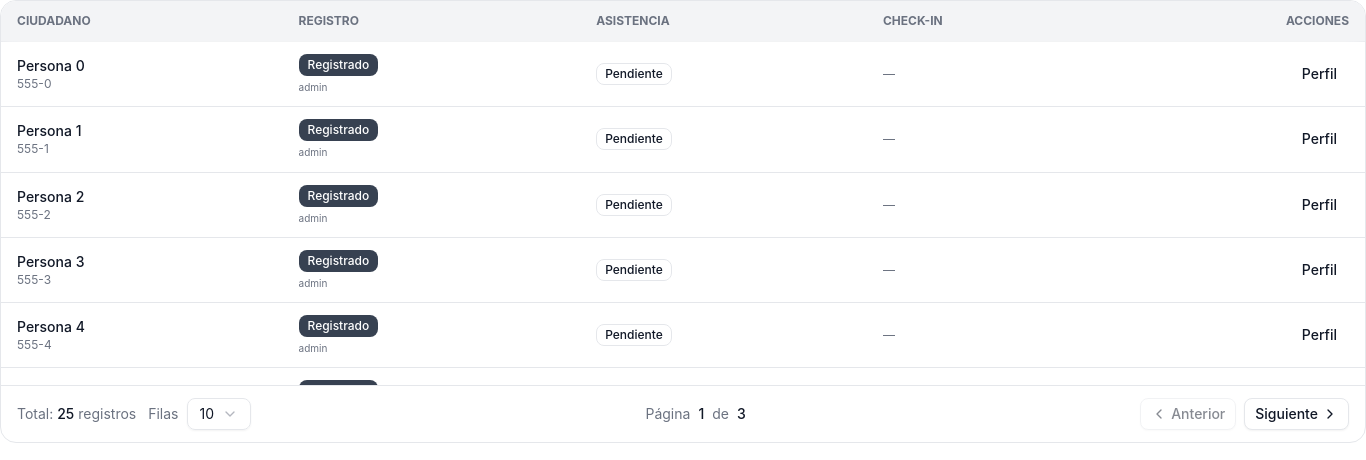
Test case: EventRegistrationsTable › navigates with next, previous and first
Click the button "Siguiente": (1297, 414) [1244,398,1349,430]
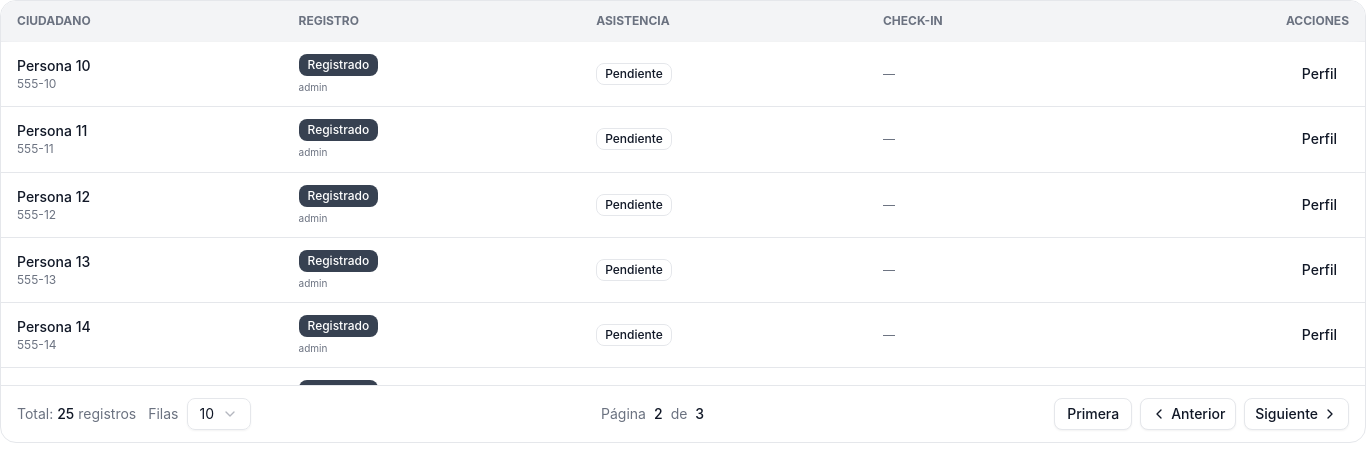
Check: the text "Persona 20" is not shown
Check: the text "Persona 10" is shown, box [17,57,90,74]
Check: the text "Persona 0" is gone
Click the button "Siguiente": (1297, 414) [1244,398,1349,430]
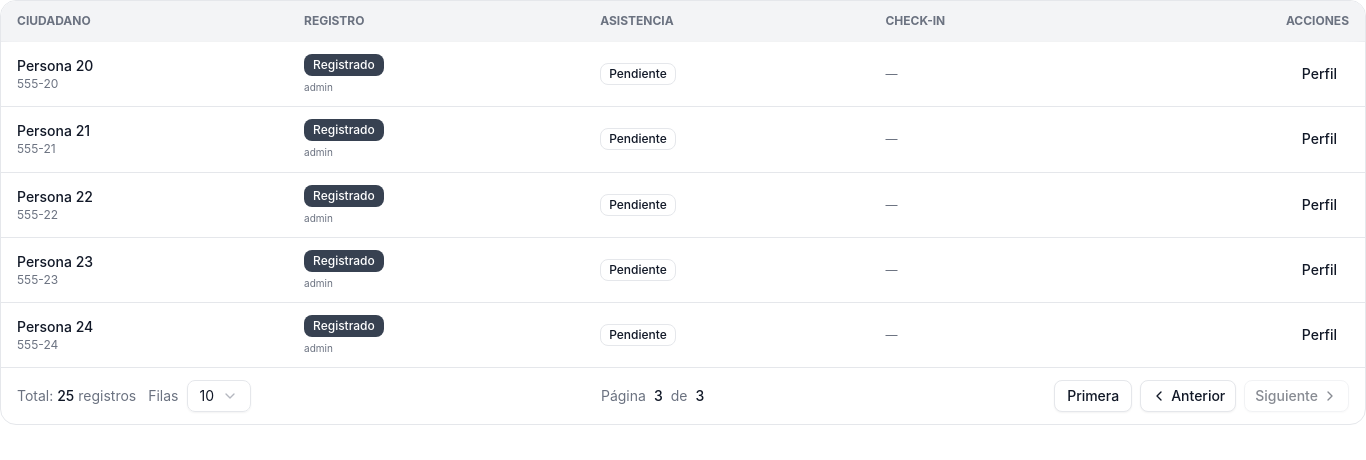
Check: the button "Primera" is shown, box [1054,380,1132,412]
Check: the text "Persona 20" is shown, box [17,57,93,74]
Click the button "Anterior": (1188, 396) [1140,380,1236,412]
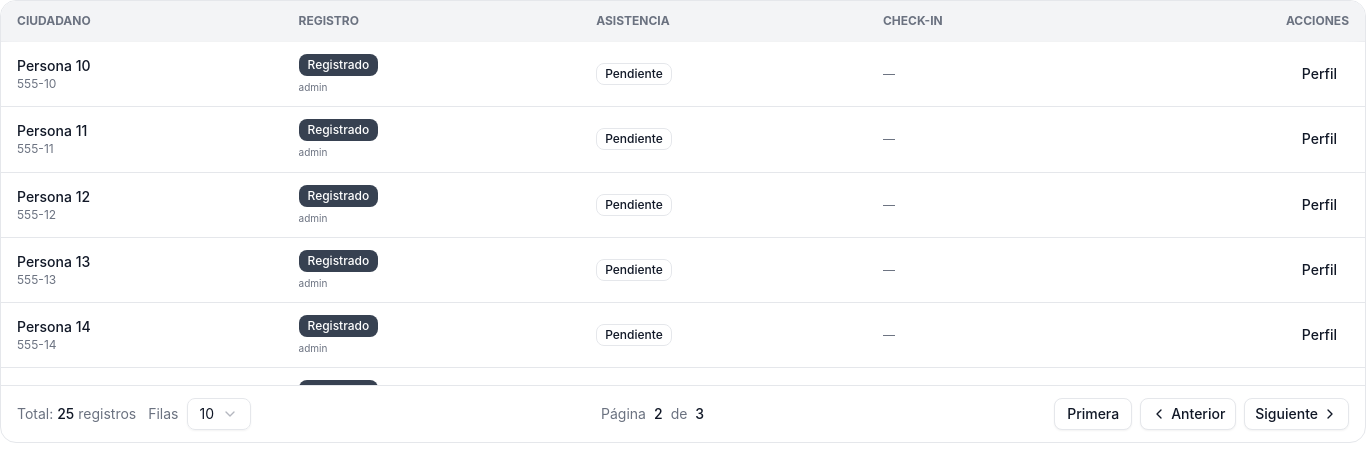
Check: the text "Persona 10" is shown, box [17,57,90,74]
Click the button "Primera": (1093, 414) [1054,398,1132,430]
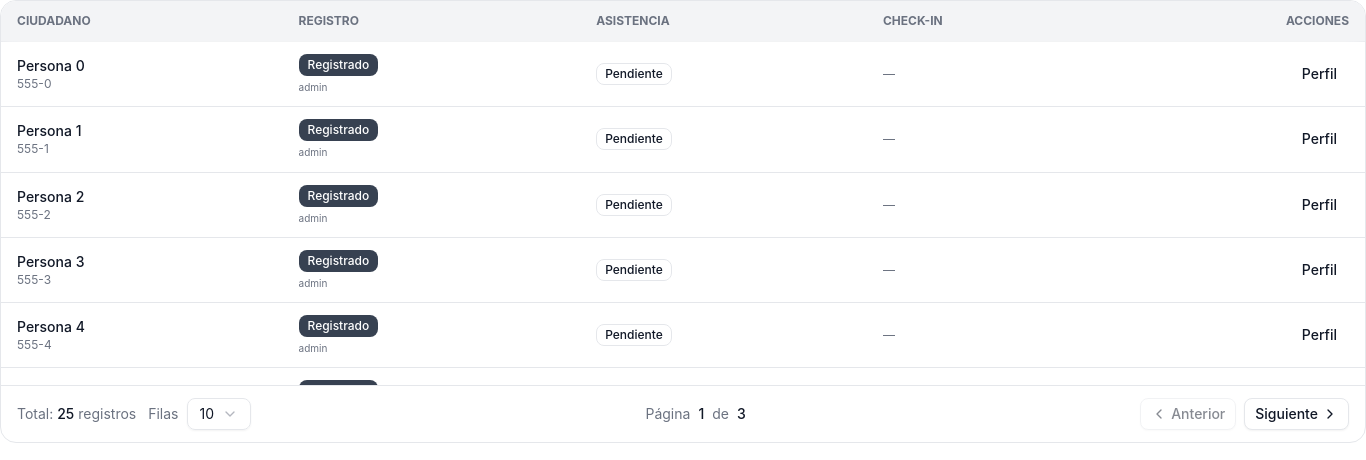
Check: the text "Persona 0" is shown, box [17,57,85,74]
Check: the text "Persona 10" is gone
